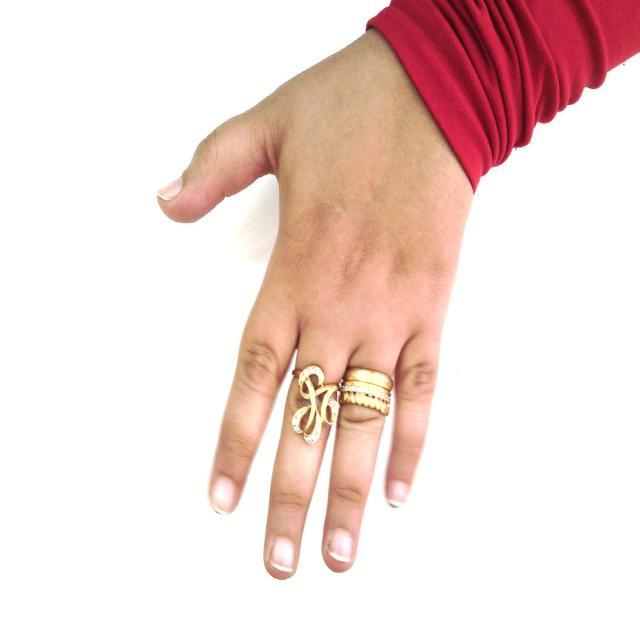Fingernail: (212, 477, 236, 513), (271, 537, 295, 570), (329, 529, 353, 561), (158, 179, 182, 200), (389, 482, 407, 505)
